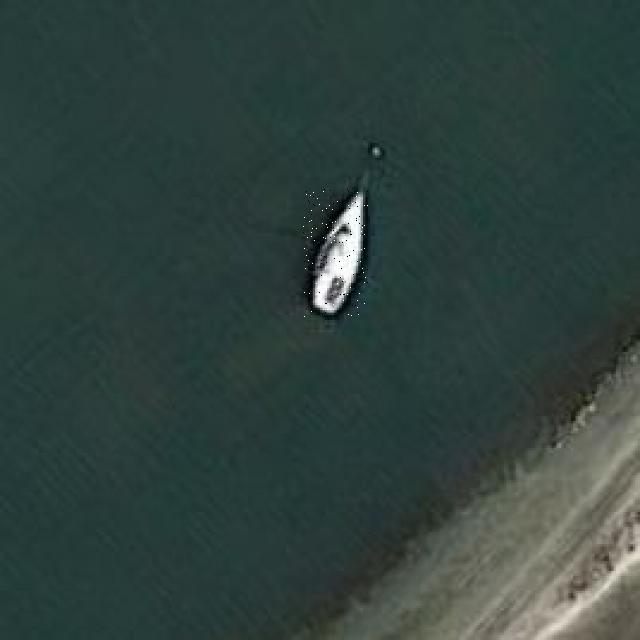boat: (303, 187, 368, 320)
